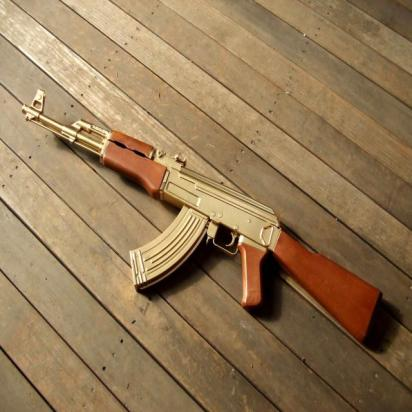Gun: (20, 96, 381, 344)
